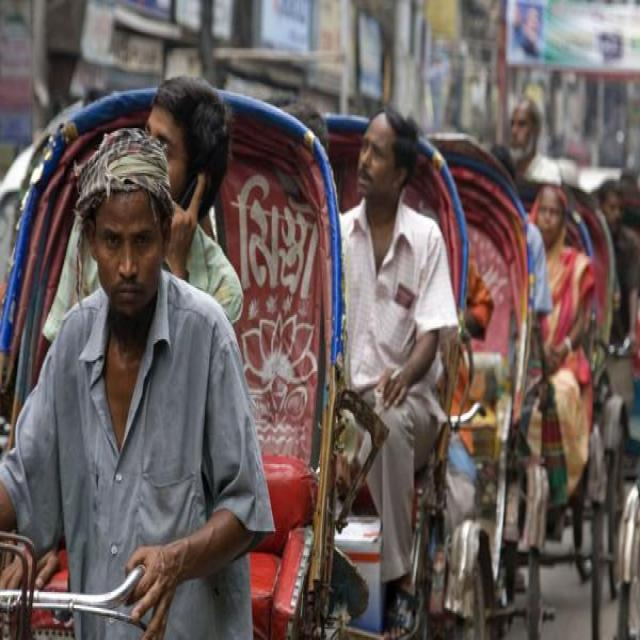Rickshaw: (1, 83, 358, 640)
